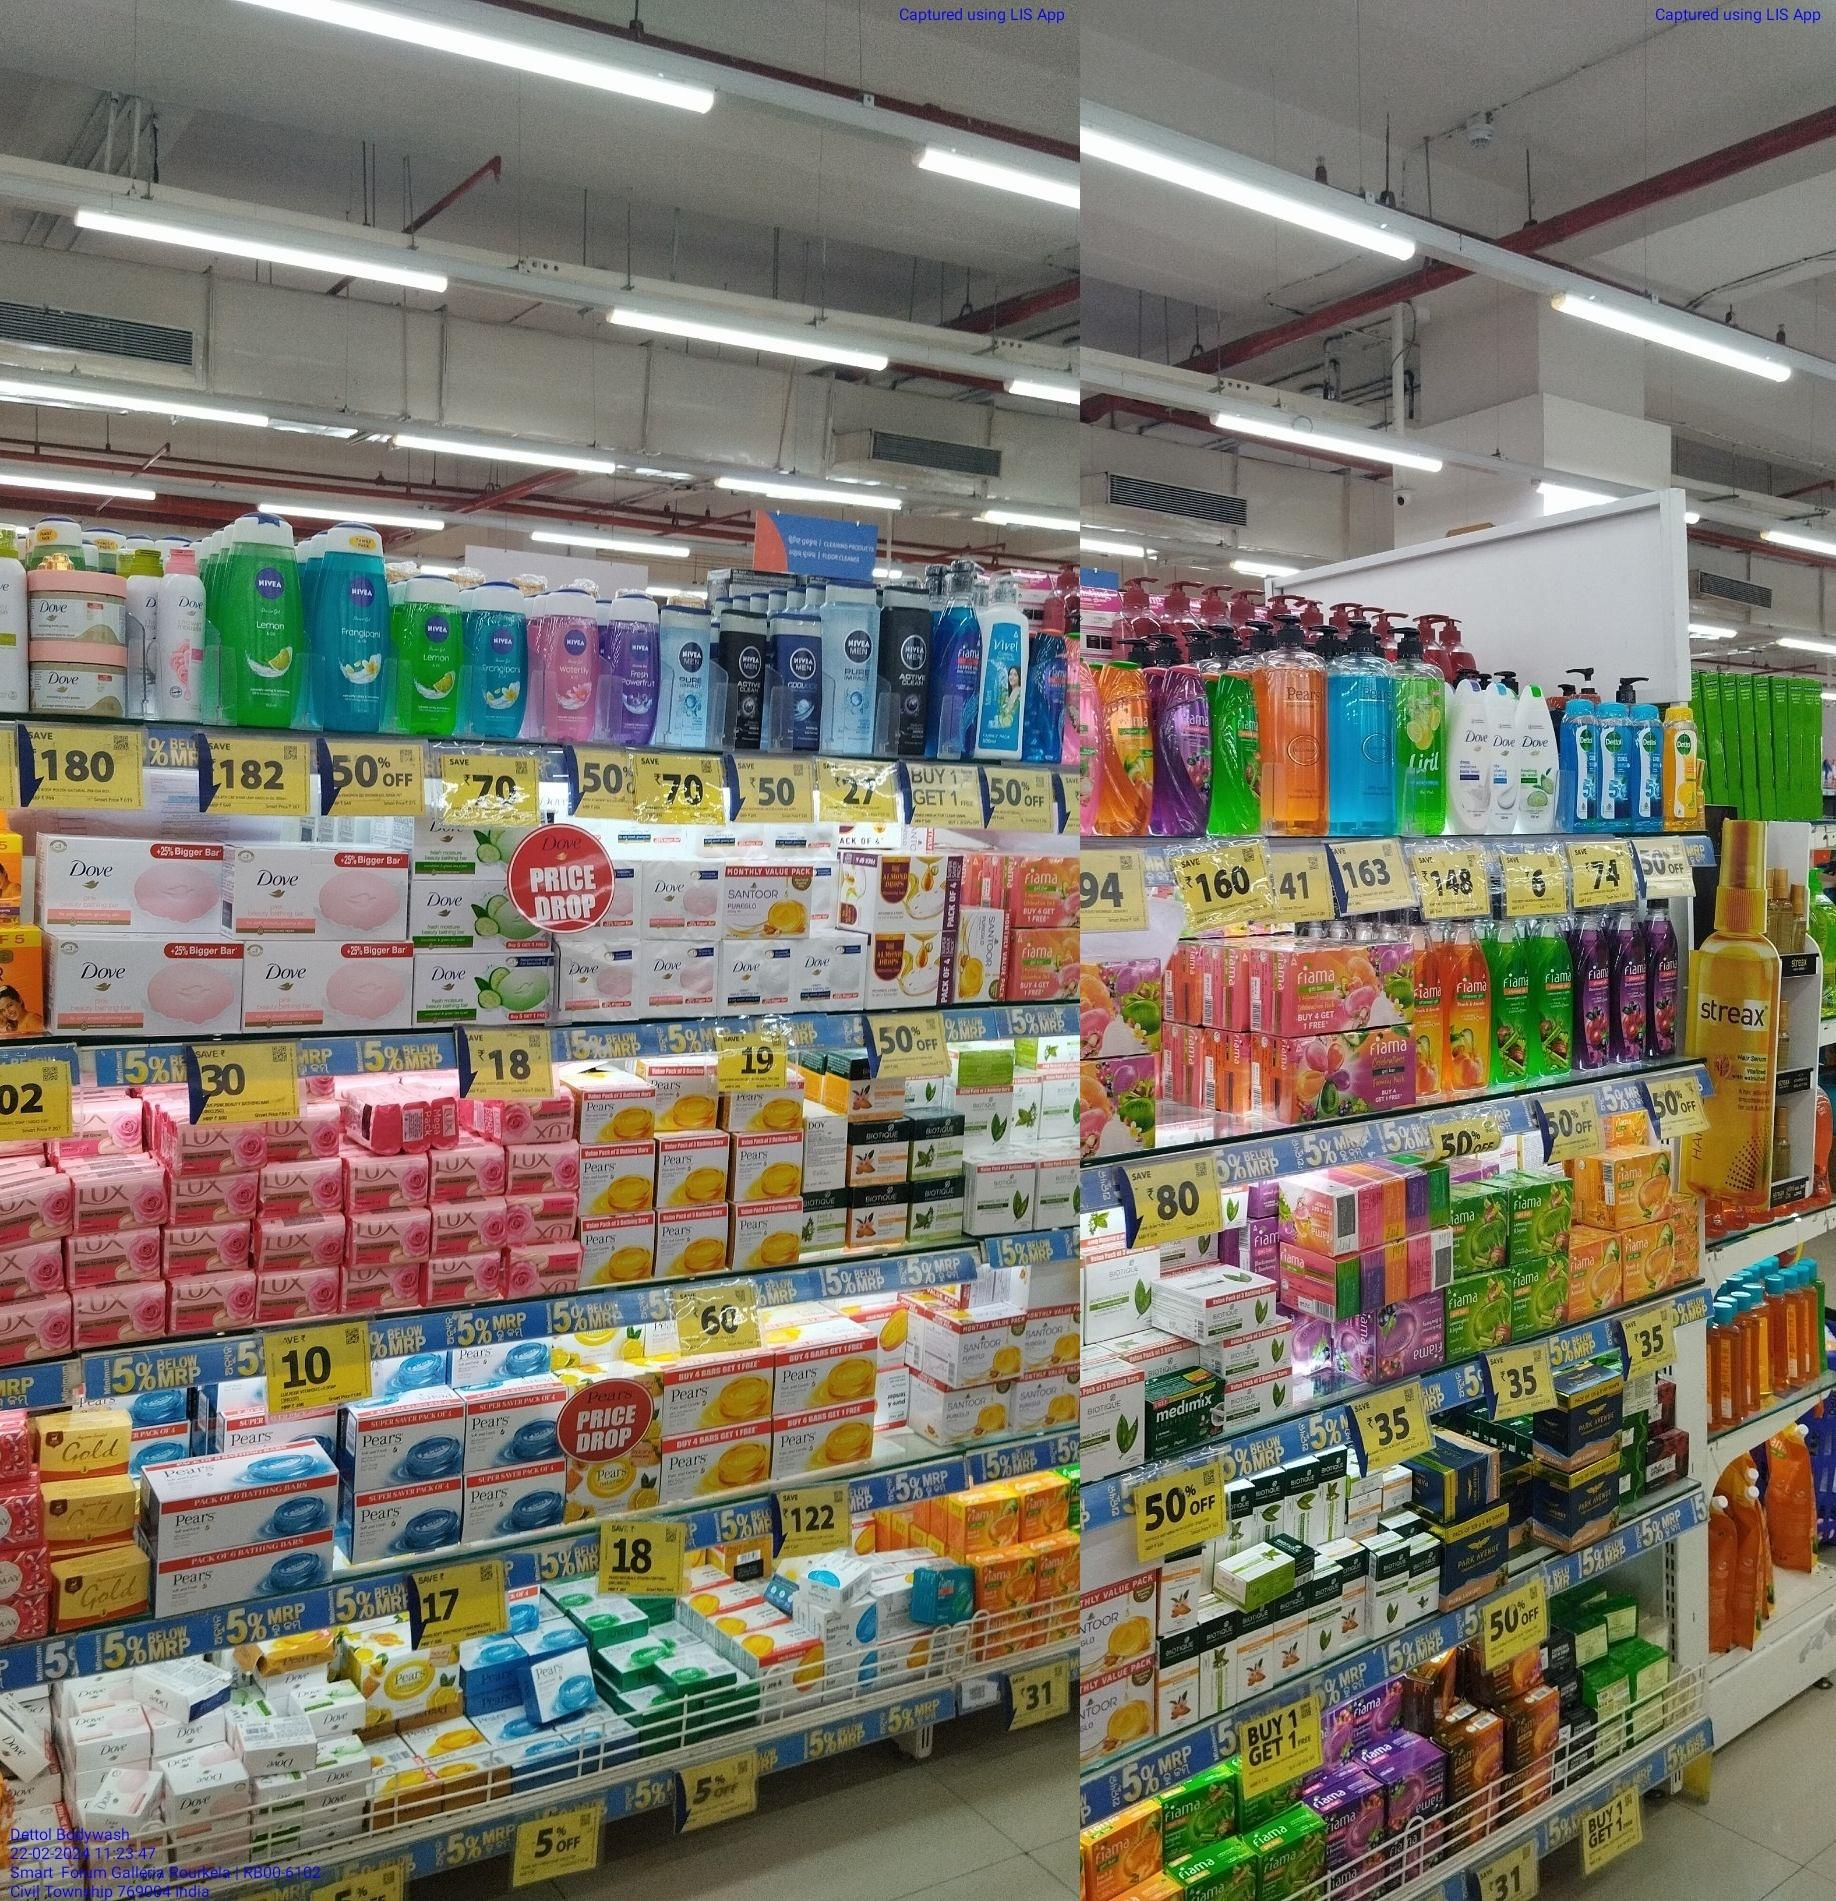Dettol_Bodywash_Cool: (1561, 698, 1598, 833), (1598, 698, 1632, 832), (1632, 698, 1661, 830)
Dettol_Bodywash_Refresh: (1663, 703, 1702, 830)
Dove_Deep_Moisture_Body_Wash_250ML: (1449, 679, 1490, 835)
Dove_Gentle_Exfoliating_Body_Wash_250ML: (1492, 681, 1520, 833)
Dove_Refreshing_Body_Wash_250ML: (1522, 682, 1559, 832)
Fiama_Shower_Gel_Lemongrass_and_Jojoba_250ML: (1212, 669, 1259, 835)
Fiama_Shower_Gel_Peach_and_Avocado_250ML: (1100, 660, 1154, 838)
Nivea_Shower_Gel_Frangipani_and_Oil_250ML: (312, 523, 390, 737), (467, 582, 524, 738)
Nivea_Shower_Gel_Fresh_Powerfruit_250ML: (604, 591, 653, 749)
Nivea_Shower_Gel_Lemon_and_Oil_250ML: (217, 513, 300, 728), (399, 574, 458, 738)
Nivea_Shower_Gel_Waterlily_and_Oil_250ML: (538, 587, 599, 743)
